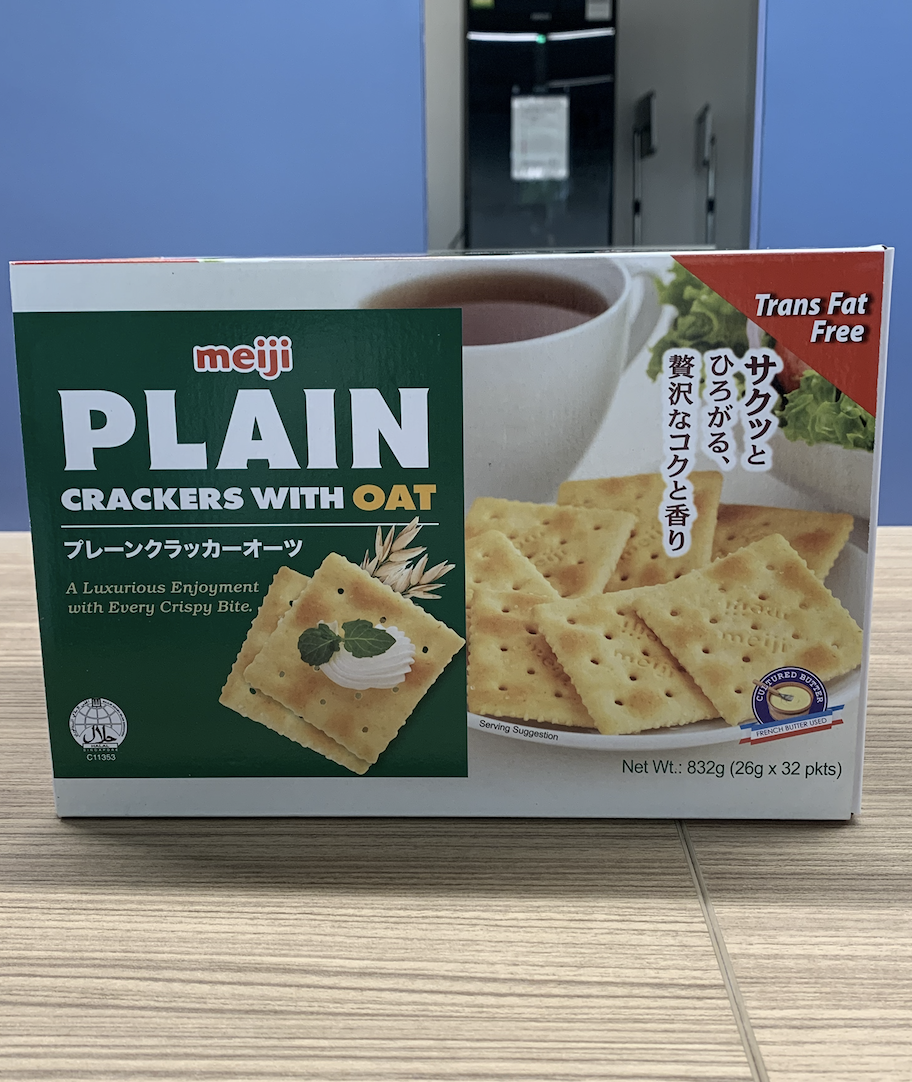crackers_850g: (47, 265, 857, 793)
